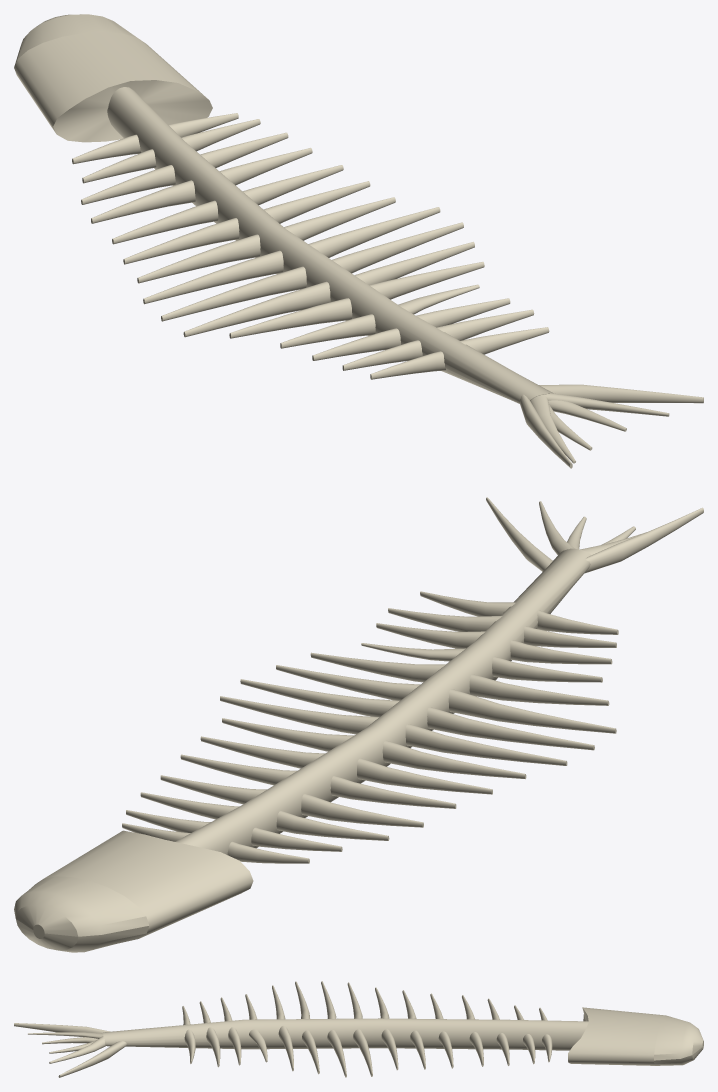
File: fishbones.fbx
The picture shows the model from 3 angles, top to bottom: view 1: azimuth 30°, elevation 25°; view 2: azimuth 150°, elevation 25°; view 3: azimuth 270°, elevation 25°; orthographic projection. The views are drawn at different scales.
Visible parts, largest first — view 1: fishbones; view 2: fishbones; view 3: fishbones.
Part boxes in pixels (box(x1,y1,x2,y2)): fishbones: box(14, 14, 703, 468); fishbones: box(14, 497, 703, 952); fishbones: box(14, 981, 703, 1077).
Size of the model in its own units: 7 by 1.17 by 21.63.
